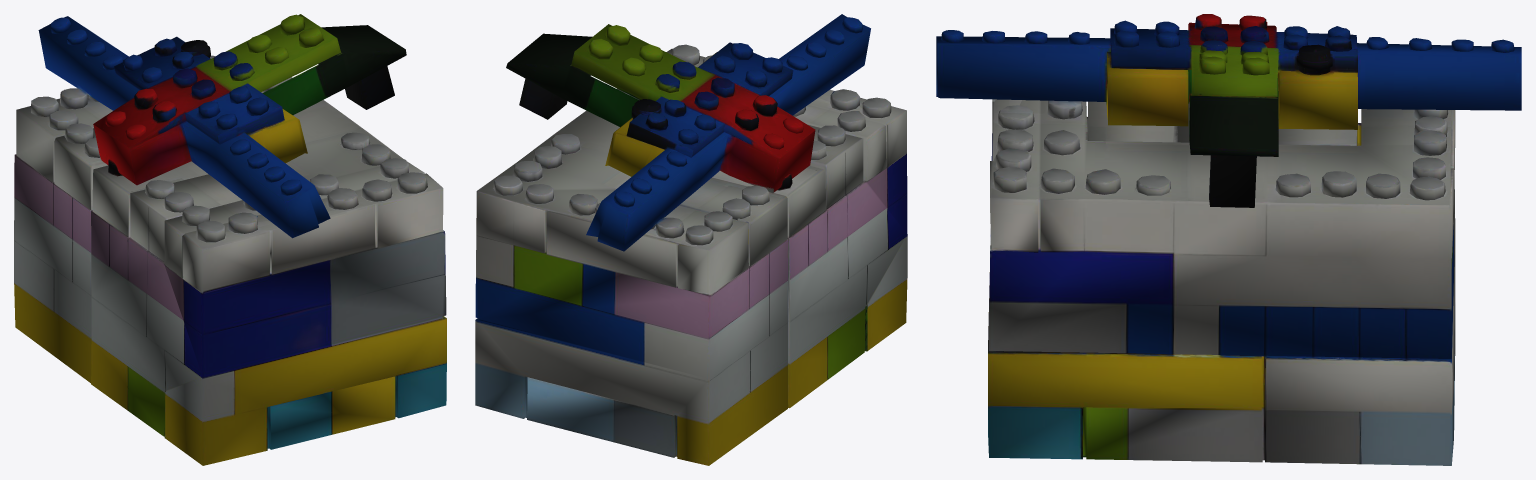
File: object_33_asset_f5df0133.glb
3 views of the same model, side by side, from view 1: azimuth 30°, elevation 25°; view 2: azimuth 150°, elevation 25°; view 3: azimuth 270°, elevation 25° (orthographic). The views are drawn at different scales.
Parts seen in each view (by area): view 1: tripo_node_69a71395-0170-48a6-bb2d-87905e679fe7; view 2: tripo_node_69a71395-0170-48a6-bb2d-87905e679fe7; view 3: tripo_node_69a71395-0170-48a6-bb2d-87905e679fe7.
Boxes of the visible parts, <box> form: tripo_node_69a71395-0170-48a6-bb2d-87905e679fe7: <box>14,14,446,465</box>; tripo_node_69a71395-0170-48a6-bb2d-87905e679fe7: <box>475,14,907,465</box>; tripo_node_69a71395-0170-48a6-bb2d-87905e679fe7: <box>936,14,1521,465</box>.
Size of the model in its own units: 0.6738 by 0.7246 by 0.998.
Materials: 1 (1 with a texture image).
